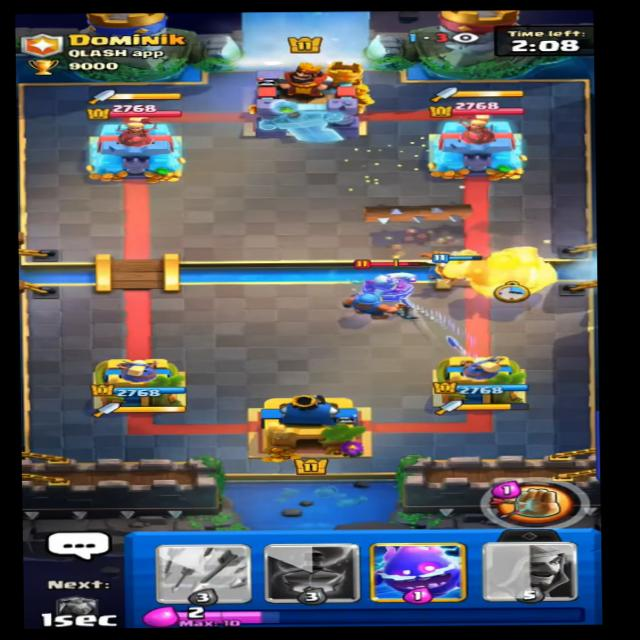goblin-demolisher: (360, 257, 434, 298)
